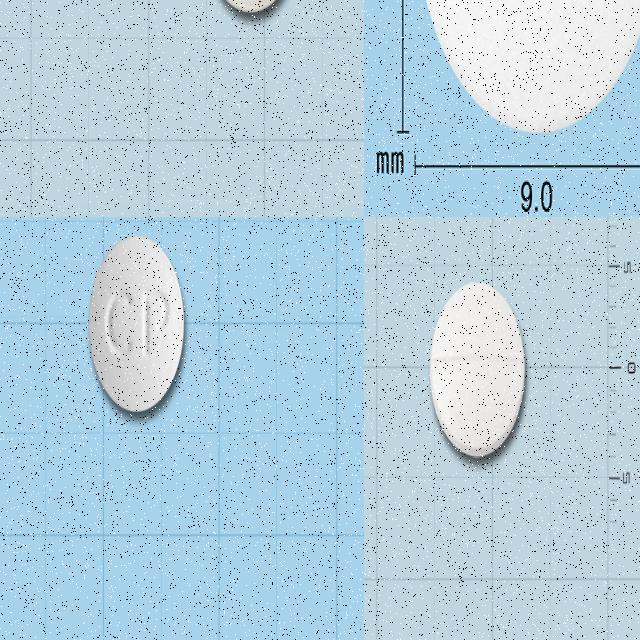Levofroxin: (431, 280, 526, 458)
Refloxin Tab: (88, 234, 186, 413)
Samsung Clarithromycin Tab: (412, 0, 640, 130)
